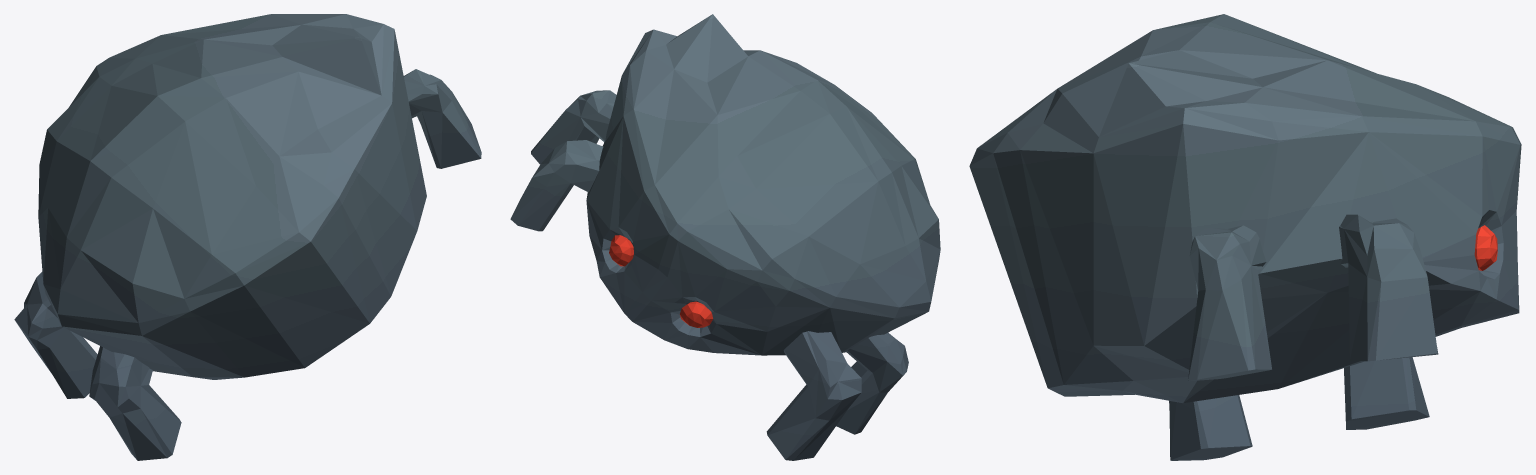
File: CharSkyKid_Neck_AP15Crab_01.glb
3 renders of one model, left to right at view 1: azimuth 30°, elevation 25°; view 2: azimuth 150°, elevation 25°; view 3: azimuth 270°, elevation 25°, orthographic. The views are drawn at different scales.
Visible parts, largest first — view 1: CharSkyKid_Neck_AP15Crab_01; view 2: CharSkyKid_Neck_AP15Crab_01; view 3: CharSkyKid_Neck_AP15Crab_01.
Part boxes in pixels (x1,y1,x2,y2): CharSkyKid_Neck_AP15Crab_01: (14,14,481,460); CharSkyKid_Neck_AP15Crab_01: (510,14,940,460); CharSkyKid_Neck_AP15Crab_01: (969,14,1521,460).
Bounding box in the file's own units: 1.68 × 1.48 × 1.42.
1 material, 1 textured.
